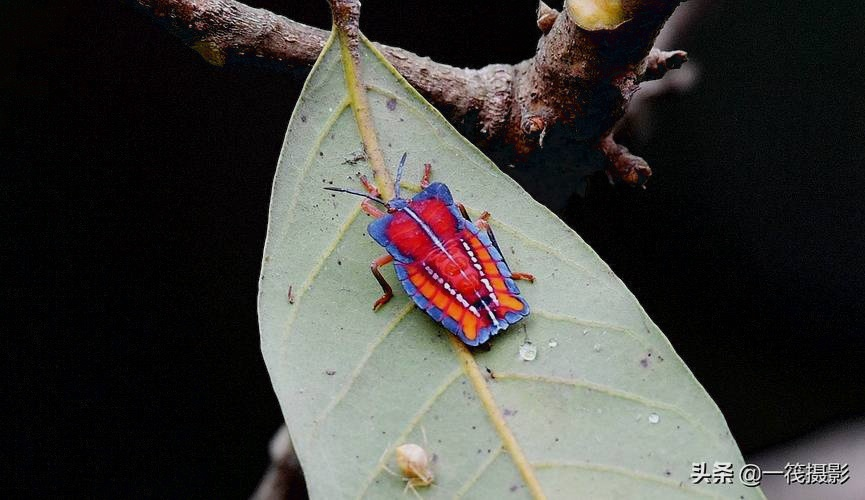Stink_Bug: (368, 186, 530, 347)
